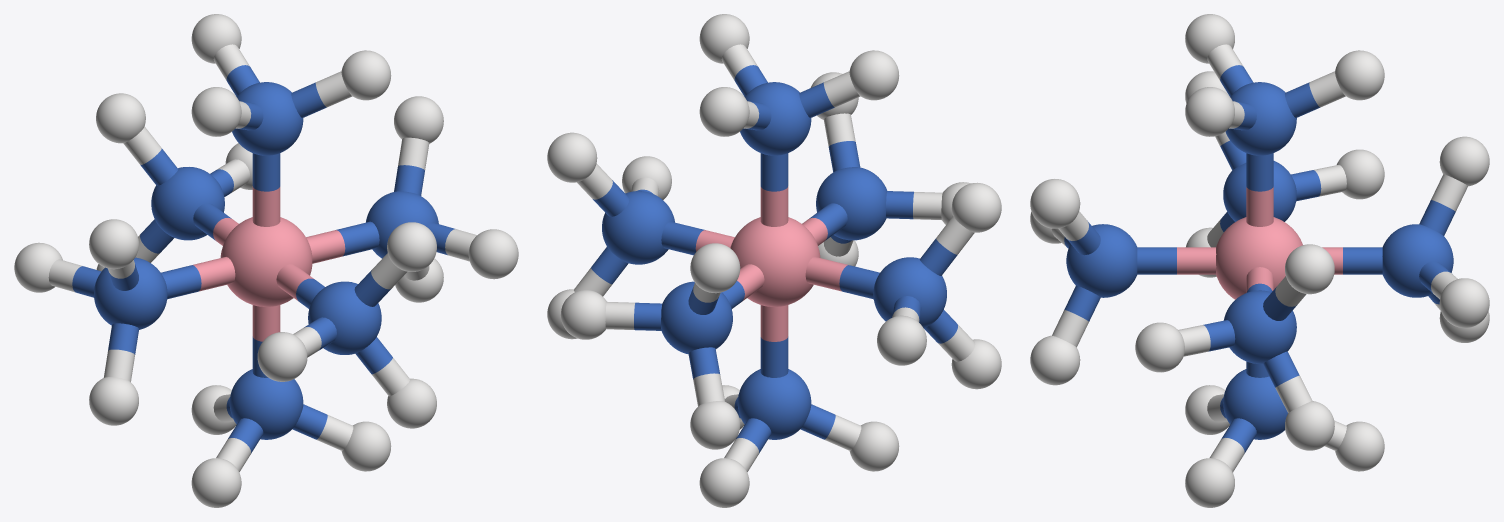
File: peihewulilun1.FBX
3 renders of one model, left to right at view 1: azimuth 30°, elevation 25°; view 2: azimuth 150°, elevation 25°; view 3: azimuth 270°, elevation 25°, orthographic.
Visible parts, largest first — view 1: Sphere001; view 2: Sphere001; view 3: Sphere001.
Boxes of the visible parts, x1,y1,x2,y2 form: Sphere001: (14,14,518,507); Sphere001: (547,14,1001,507); Sphere001: (1030,14,1489,507).
Size of the model in its own units: 49.83 by 49.83 by 49.83.
